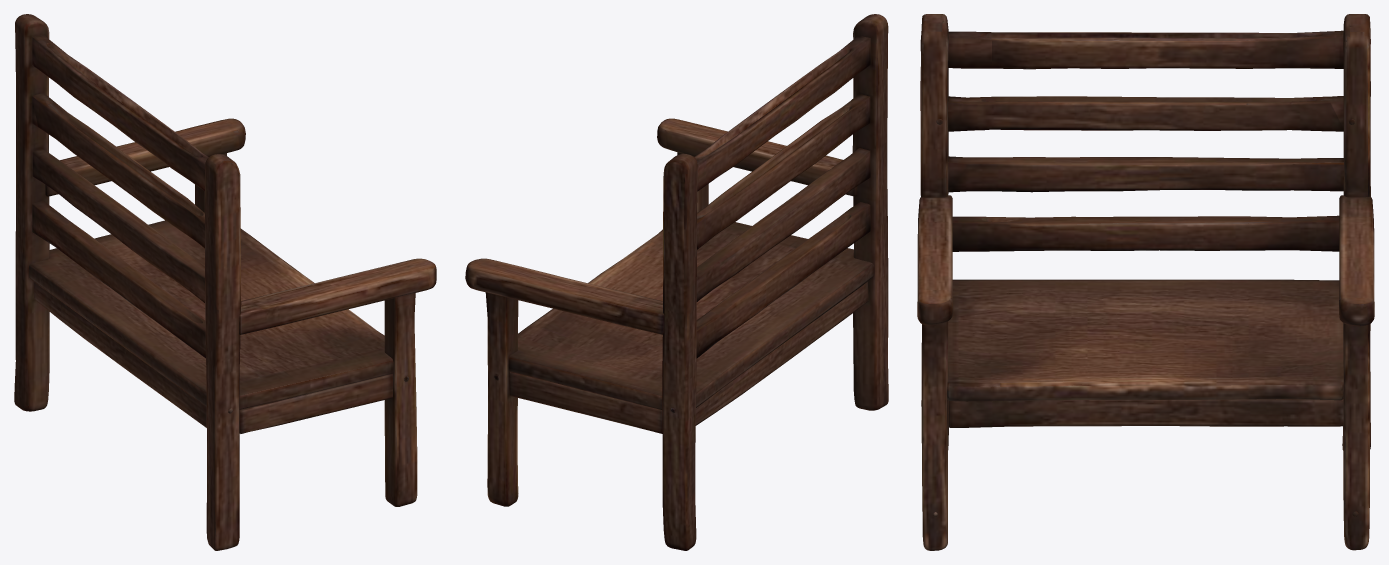
File: chair.glb
3 renders of one model, left to right at view 1: azimuth 30°, elevation 25°; view 2: azimuth 150°, elevation 25°; view 3: azimuth 270°, elevation 25°, orthographic. The views are drawn at different scales.
Visible parts, largest first — view 1: Model; view 2: Model; view 3: Model.
Boxes of the visible parts, bbox=[...] form: Model: bbox=[14, 14, 436, 550]; Model: bbox=[465, 14, 888, 550]; Model: bbox=[917, 14, 1374, 550].
Bounding box in the file's own units: 0.6021 × 0.9995 × 0.9585.
1 material, 1 textured.
